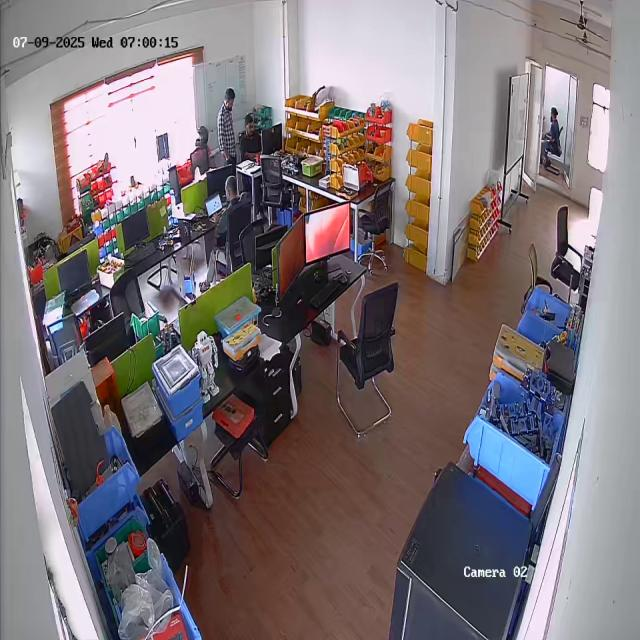person: (210, 175, 247, 266), (214, 86, 238, 163), (544, 106, 562, 160), (238, 114, 258, 154)
